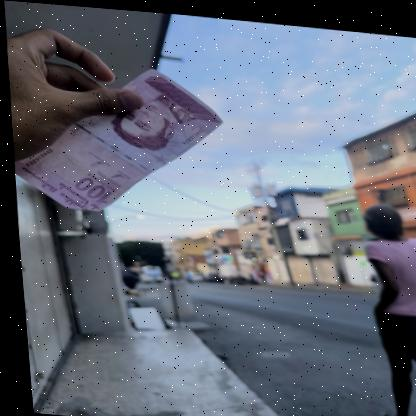one_hundred-front-vef: (4, 52, 229, 222)
